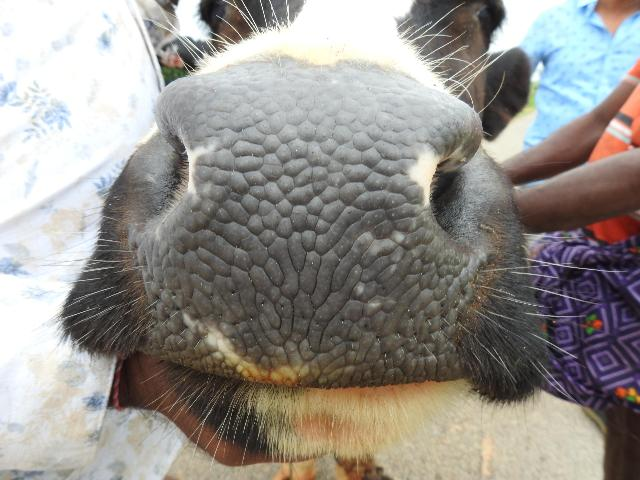Muzzle: (170, 85, 442, 382)
